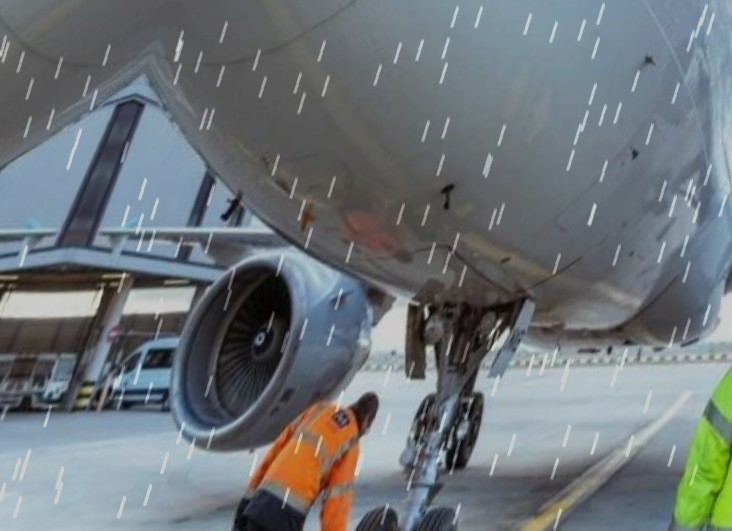wheel: (442, 388, 492, 473), (409, 390, 441, 439)
